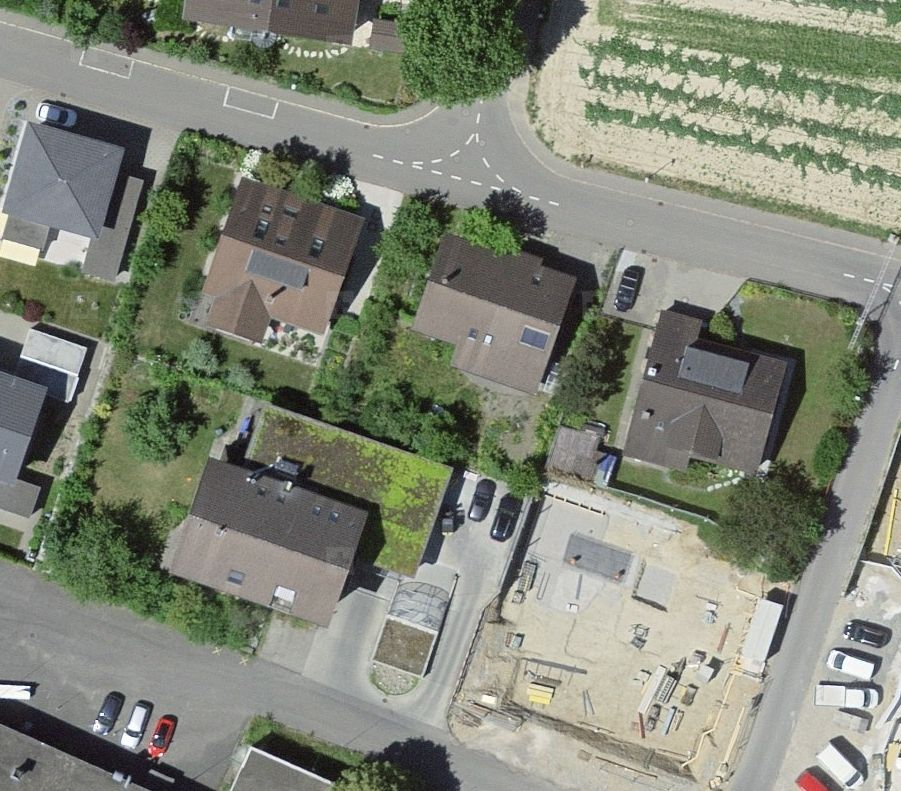solar: (509, 315, 561, 359)
